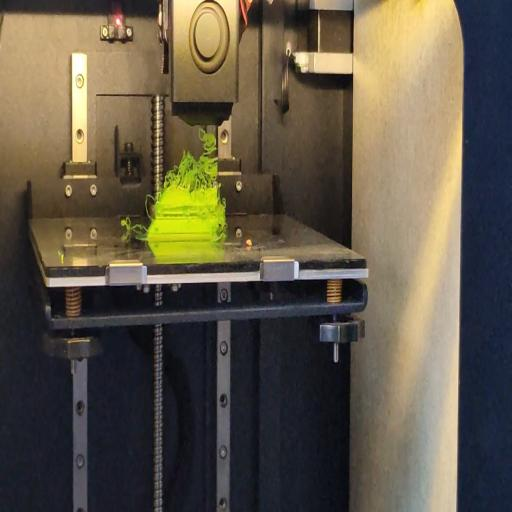spaghetti: (160, 124, 218, 187), (120, 216, 148, 238), (142, 191, 154, 228), (216, 229, 226, 240)
